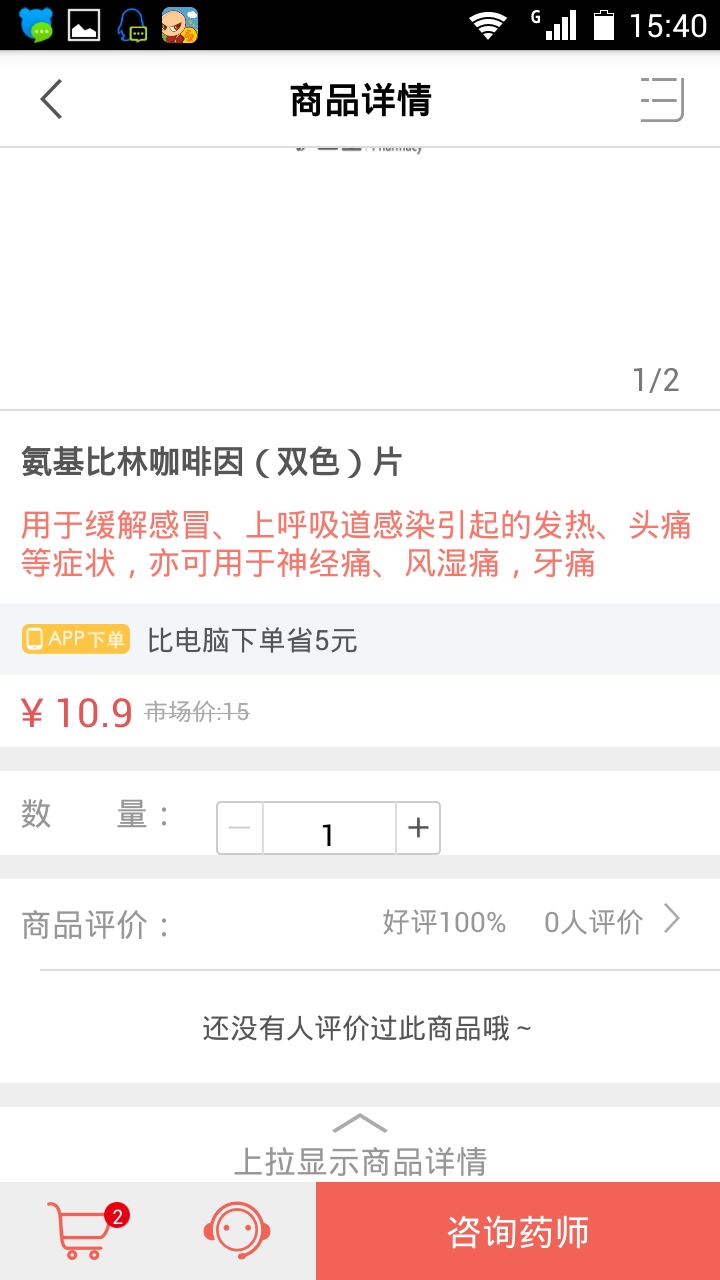button: (300, 1177, 720, 1278)
checkboxs: (201, 791, 471, 862)
nav: (3, 1187, 276, 1280)
textview: (14, 427, 717, 598), (85, 60, 619, 144), (8, 683, 678, 737)
